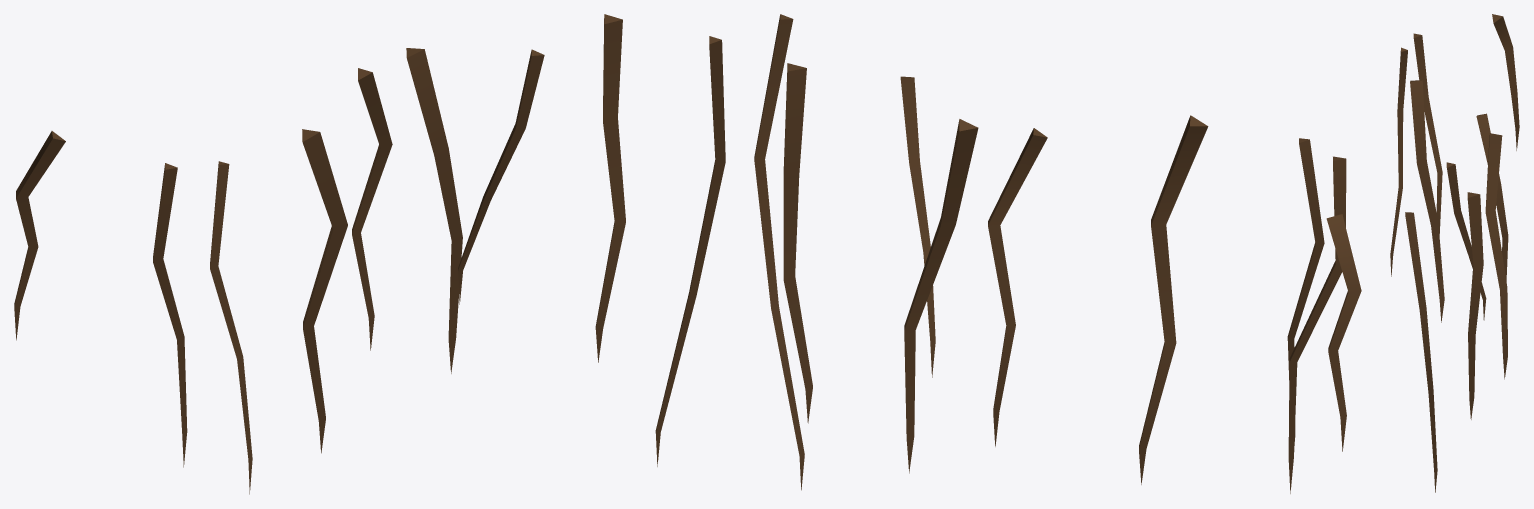
File: HangingRoots.fbx
3 renders of one model, left to right at view 1: azimuth 30°, elevation 25°; view 2: azimuth 150°, elevation 25°; view 3: azimuth 270°, elevation 25°, orthographic. The views are drawn at different scales.
Parts seen in each view (by area): view 1: HangingRoots; view 2: HangingRoots; view 3: HangingRoots.
Part boxes in pixels (box(x1,y1,x2,y2)): HangingRoots: box(14, 14, 725, 494); HangingRoots: box(754, 14, 1361, 493); HangingRoots: box(1390, 14, 1519, 492).
Size of the model in its own units: 1.5 by 0.9694 by 0.3844.
